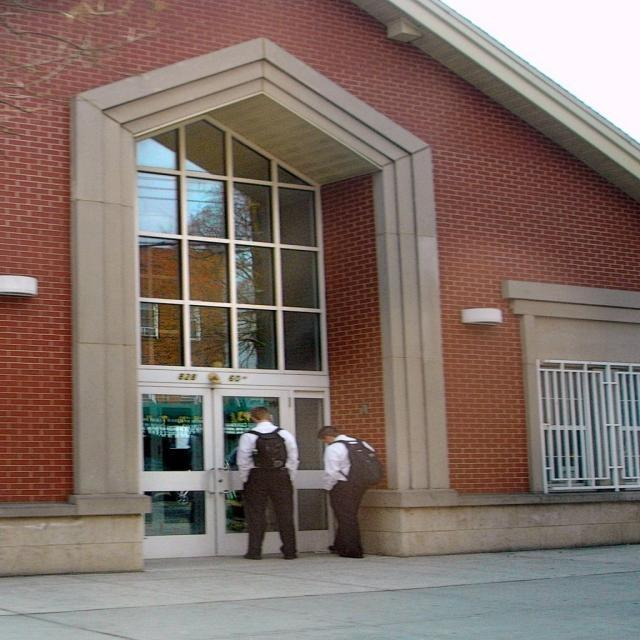door: (132, 373, 337, 566)
